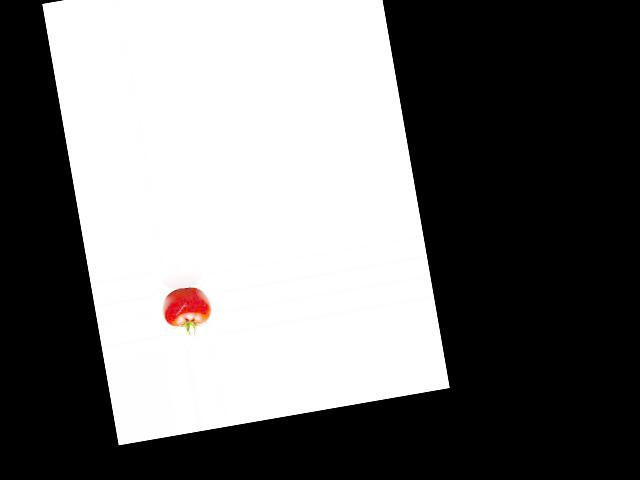tomato: (158, 284, 213, 330)
